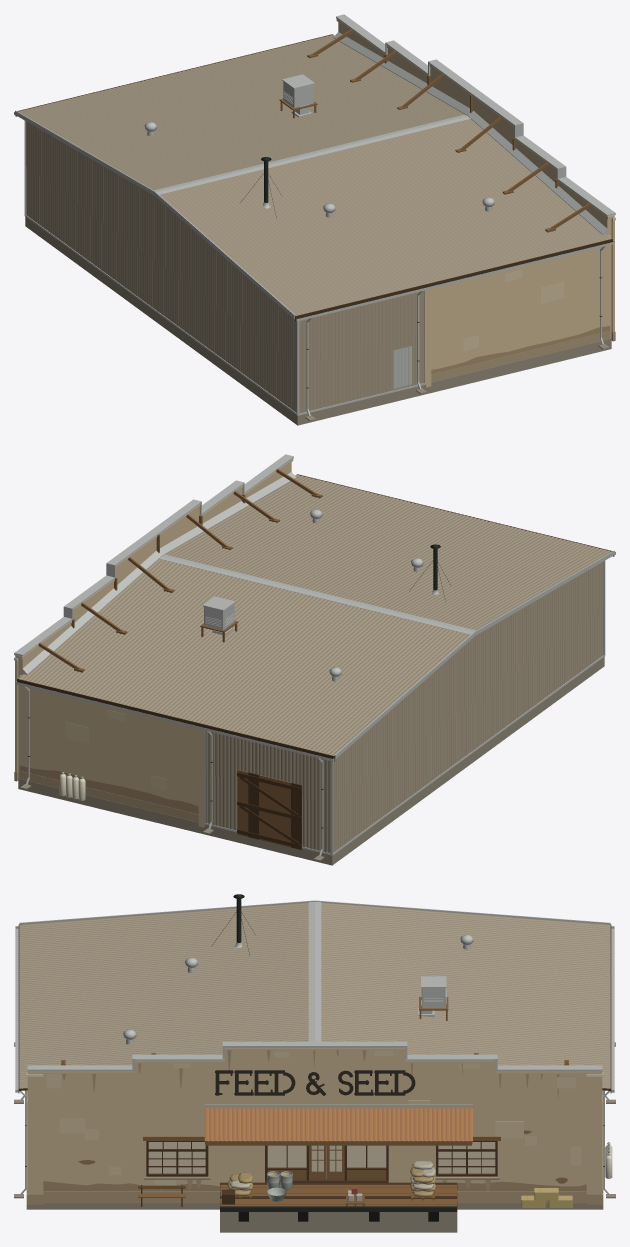
The model's file is SM_Town_Feed_Shell_LOD1.fbx.
3 renders of one model, top to bottom at view 1: azimuth 30°, elevation 25°; view 2: azimuth 150°, elevation 25°; view 3: azimuth 270°, elevation 25°, orthographic. The views are drawn at different scales.
Visible parts, largest first — view 1: SM_Town_Feed_Shell_LOD1; view 2: SM_Town_Feed_Shell_LOD1; view 3: SM_Town_Feed_Shell_LOD1.
Boxes of the visible parts, box(x1,y1,x2,y2) form: SM_Town_Feed_Shell_LOD1: box(14, 14, 615, 425); SM_Town_Feed_Shell_LOD1: box(14, 454, 615, 865); SM_Town_Feed_Shell_LOD1: box(14, 894, 615, 1232).
Bounding box in the file's own units: 19.1 × 25.36 × 8.77.
